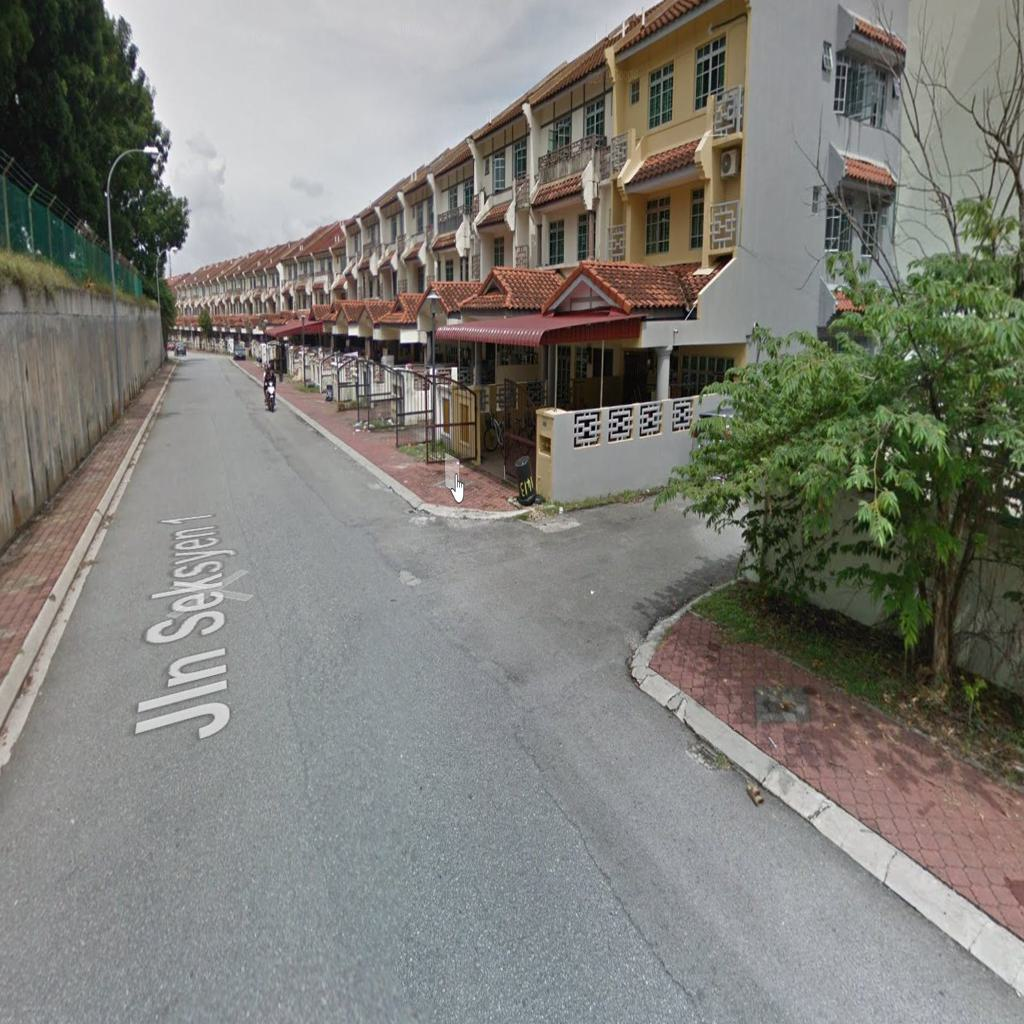Junction: (420, 444, 744, 692)
